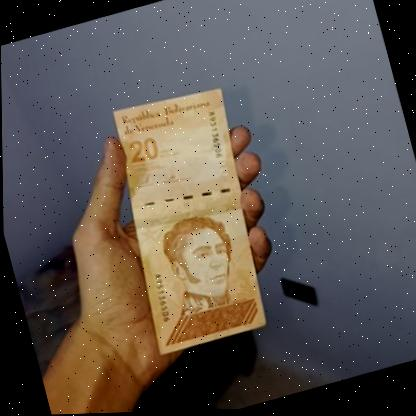twenty-front-vef: (97, 80, 283, 357)
